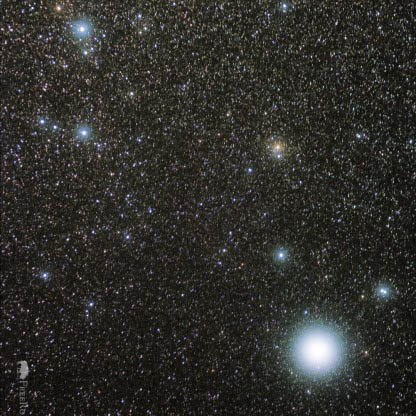Lyra: (270, 309, 359, 392), (65, 10, 95, 43), (262, 131, 288, 164), (69, 118, 95, 147), (273, 243, 298, 267), (371, 277, 392, 302)
